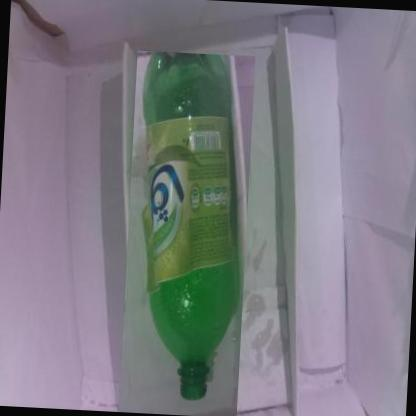plastic_bottles: (118, 50, 255, 416)
